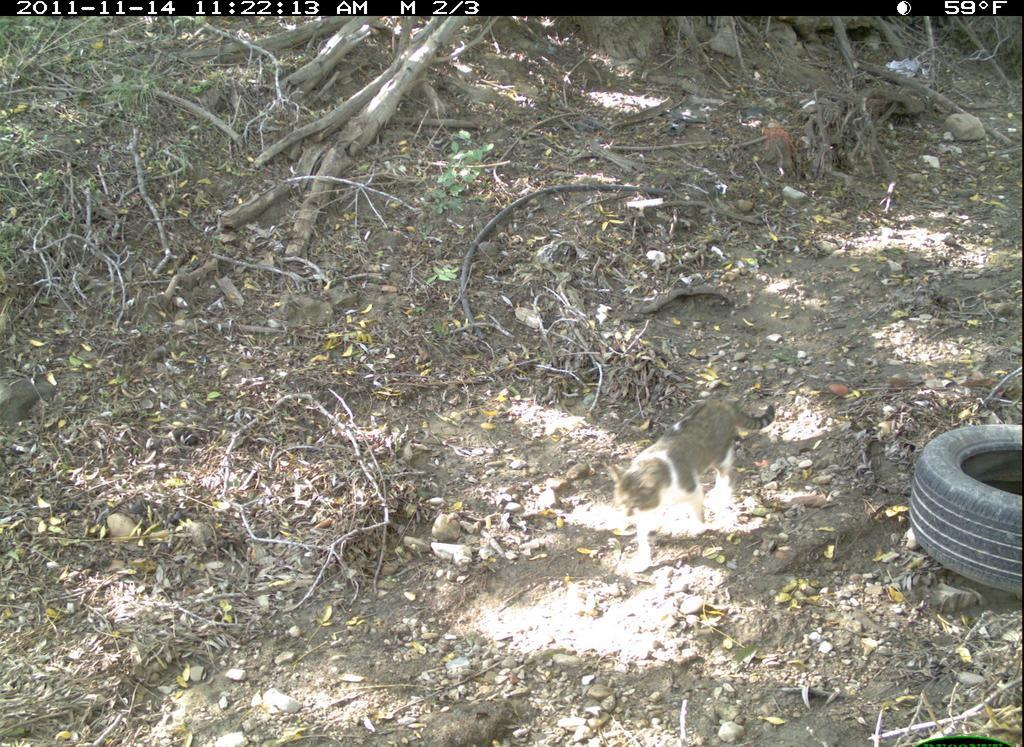cat: (607, 390, 781, 582)
